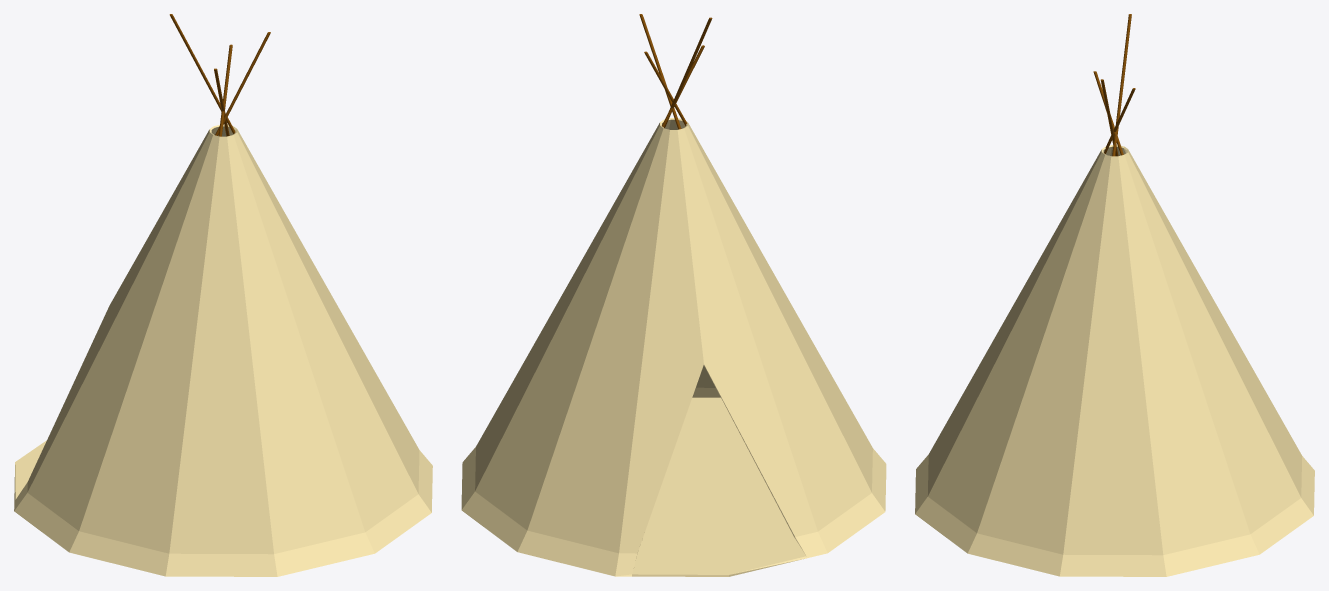
Rendered from leu.fbx.
3 views of the same model, side by side, from view 1: azimuth 30°, elevation 25°; view 2: azimuth 150°, elevation 25°; view 3: azimuth 270°, elevation 25° (orthographic). The views are drawn at different scales.
Visible parts, largest first — view 1: leu112, leu113, leu111, leu114, leu117, leu; view 2: leu116, leu111, leu115, leu, leu112, leu117, leu113; view 3: leu114, leu115, leu113, leu116, leu117.
Part boxes in pixels (left/top/right/bottom): leu112: left=69, top=135, right=277, bottom=576; leu113: left=227, top=132, right=431, bottom=576; leu111: left=14, top=129, right=213, bottom=552; leu114: left=233, top=126, right=432, bottom=512; leu117: left=169, top=14, right=270, bottom=136; leu: left=14, top=440, right=46, bottom=501; leu116: left=517, top=128, right=703, bottom=576; leu111: left=677, top=126, right=884, bottom=557; leu115: left=461, top=122, right=664, bottom=551; leu: left=616, top=397, right=807, bottom=576; leu112: left=686, top=121, right=886, bottom=511; leu117: left=639, top=14, right=712, bottom=129; leu113: left=669, top=118, right=720, bottom=397; leu114: left=968, top=155, right=1166, bottom=576; leu115: left=1118, top=152, right=1313, bottom=576; leu113: left=915, top=149, right=1105, bottom=553; leu116: left=1123, top=147, right=1314, bottom=515; leu117: left=1093, top=14, right=1135, bottom=156.
Size of the model in its own units: 3.18 by 4.03 by 3.18.
1 material, 1 textured.
